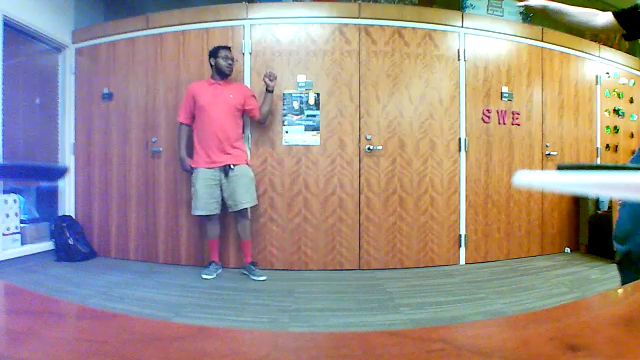up: (262, 60, 280, 92)
